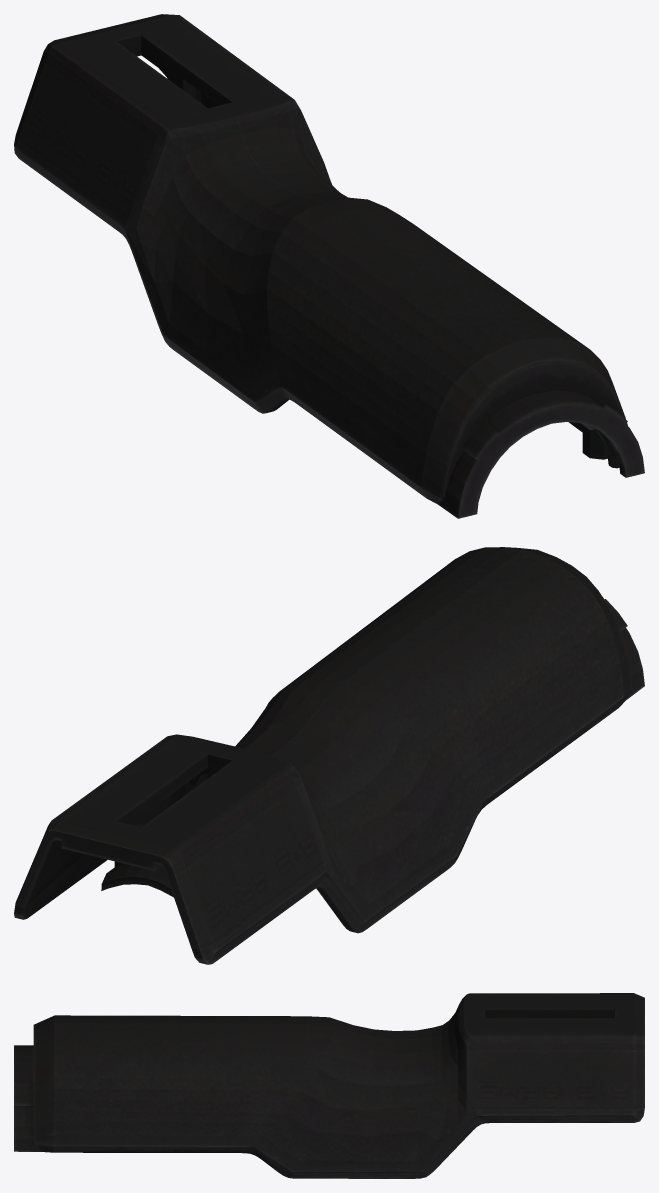
3 renders of one model, top to bottom at view 1: azimuth 30°, elevation 25°; view 2: azimuth 150°, elevation 25°; view 3: azimuth 270°, elevation 25°, orthographic. The views are drawn at different scales.
Parts seen in each view (by area): view 1: TW_647def638295ebcb5b02f05b_PZ_Import; view 2: TW_647def638295ebcb5b02f05b_PZ_Import; view 3: TW_647def638295ebcb5b02f05b_PZ_Import.
Boxes of the visible parts, x1,y1,x2,y2 form: TW_647def638295ebcb5b02f05b_PZ_Import: (14,14,644,518); TW_647def638295ebcb5b02f05b_PZ_Import: (14,547,644,964); TW_647def638295ebcb5b02f05b_PZ_Import: (14,993,644,1178).
Bounding box in the file's own units: 0.0281 × 0.1065 × 0.0245.
1 material, 1 textured.
